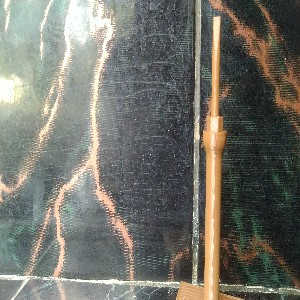obeng: (202, 15, 227, 300)
